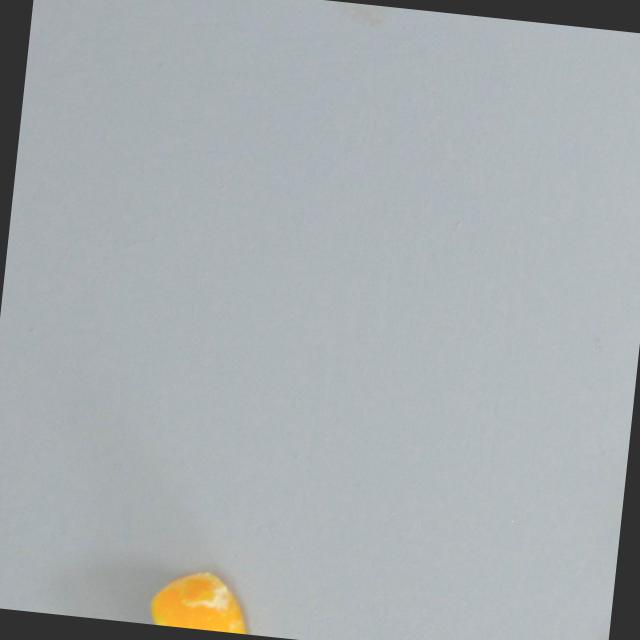pelicula: (139, 566, 254, 634)
